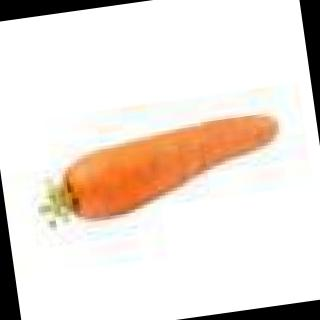Wortel: (16, 77, 304, 266)
